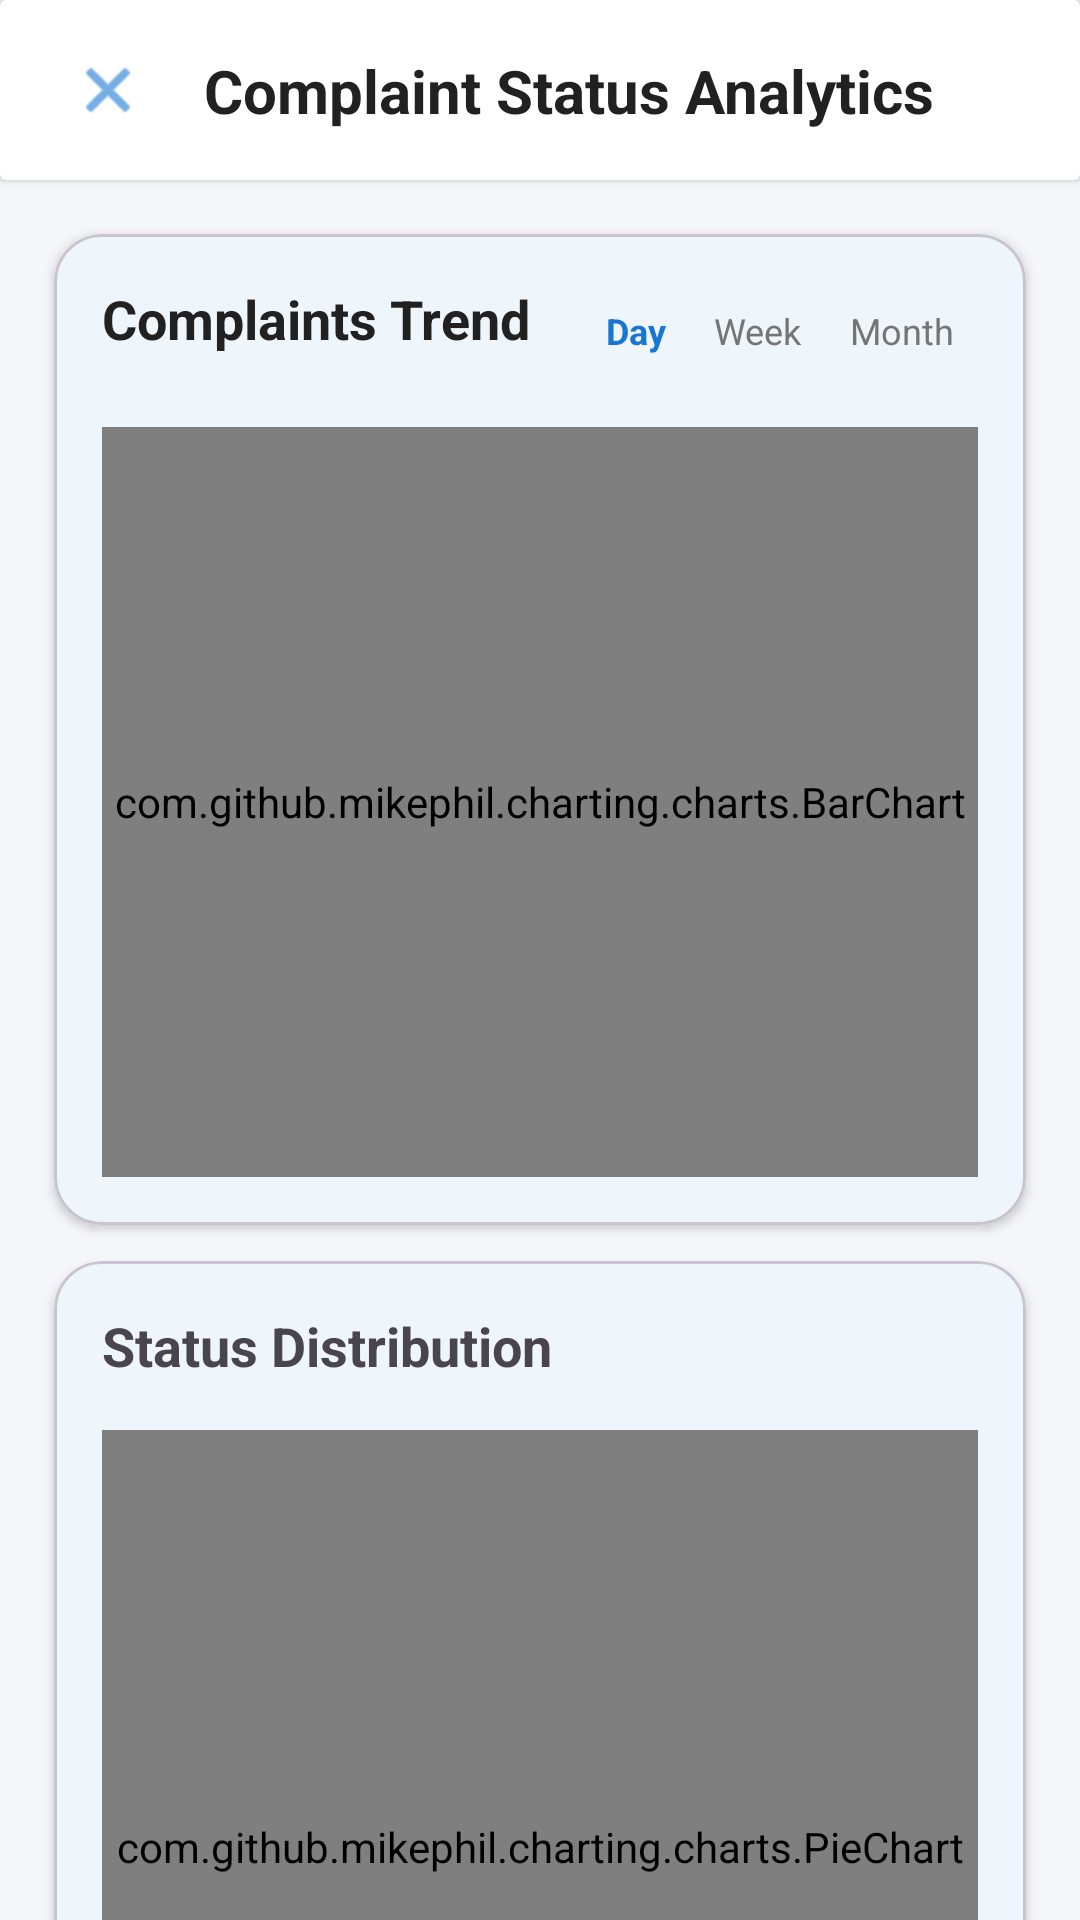

Icon click points for this 1080 × 1920 phone screenshot, format [x,y]:
close clear cancel: [108,90]
